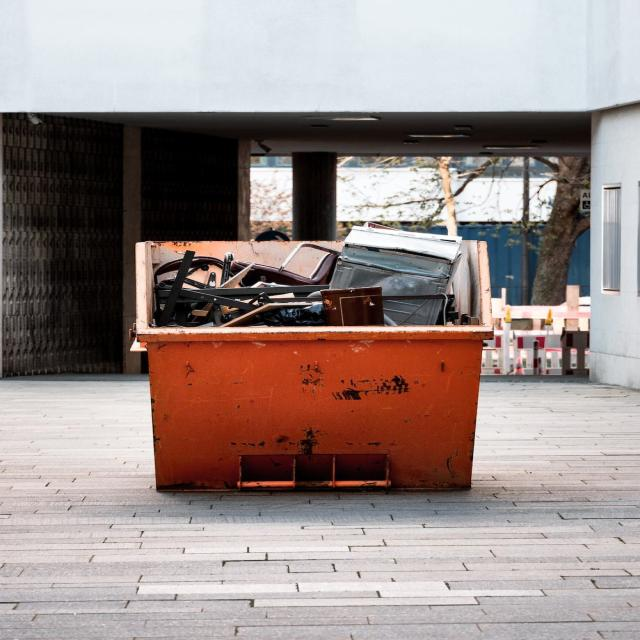metal: (170, 249, 458, 319)
